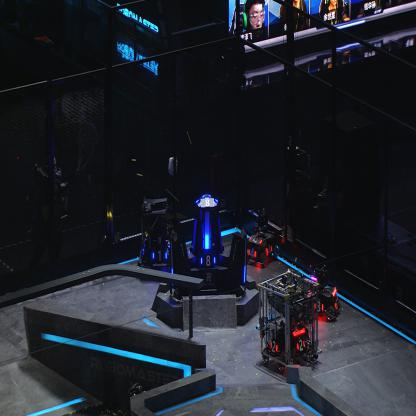car: (258, 268, 320, 372), (138, 197, 178, 275), (244, 205, 280, 265), (306, 264, 340, 321)
